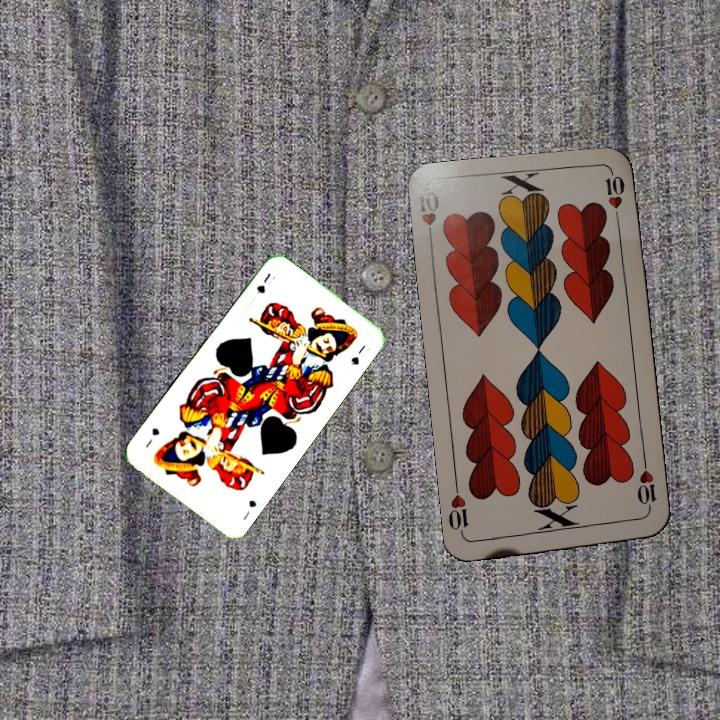GU: (252, 269, 273, 296), (239, 496, 259, 523)
H10: (414, 187, 442, 247), (633, 457, 659, 516)
